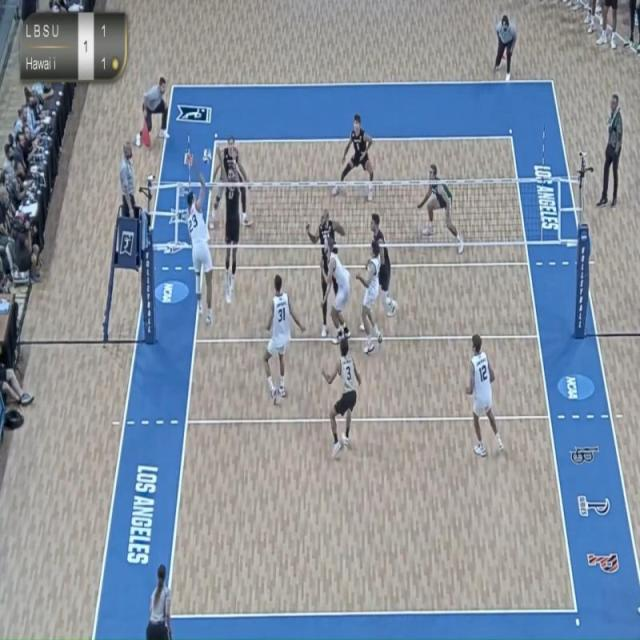volleyball: (200, 145, 213, 166)
